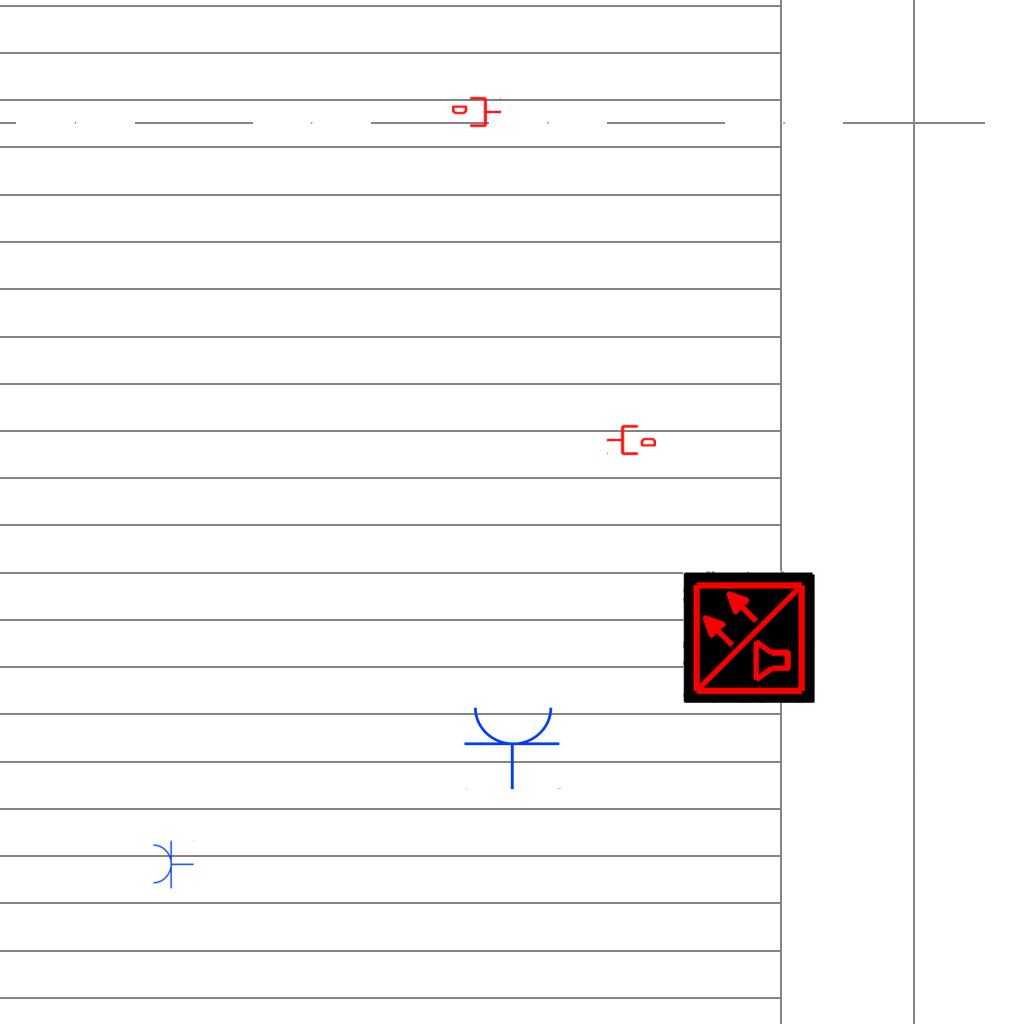Datenanschluss_einfach: (452, 95, 502, 129), (606, 423, 656, 457)
OKW_Multisensormelder_(Kombination_optischer_Rauch-Kahlenmonoxid_Waerme-Melder): (683, 571, 815, 703)
Schukosteckdose_einfach: (463, 703, 563, 790), (151, 839, 194, 889)
